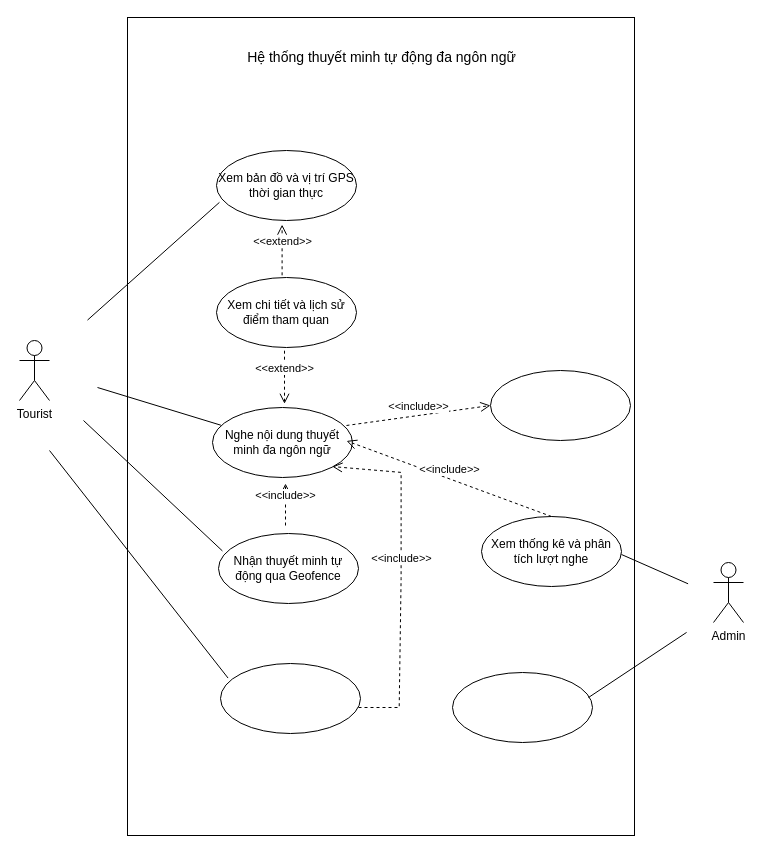
Some shapes in this 763 by 853 pixel diagram are drawn without their labels. The shapes that lost their labels are listed below. From the top down, each one's centre as x and y in pixels, then its label:
the point at 560,405: Chọn ngôn ngữ thuyết minh
the point at 290,698: Quét mã QR kích hoạt thuyết minh tức thì
the point at 522,707: Quản lí nội dung điểm tham quan
